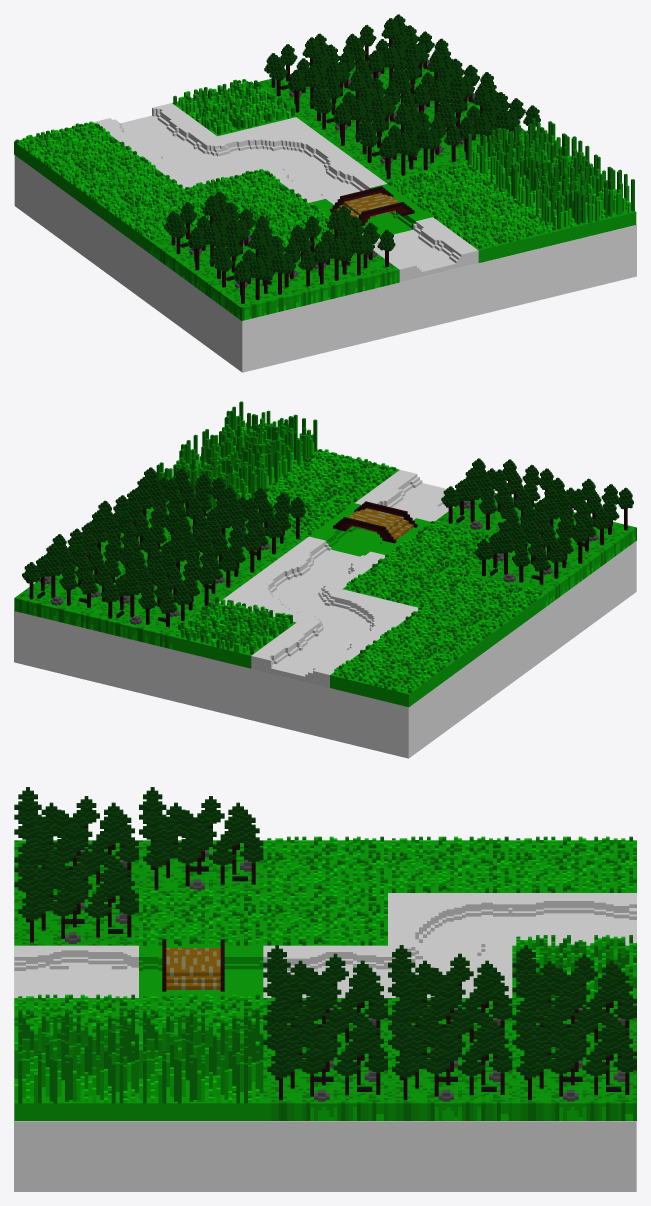
Rendered from GrassMap.fbx.
3 views of the same model, one above another, from view 1: azimuth 30°, elevation 25°; view 2: azimuth 150°, elevation 25°; view 3: azimuth 270°, elevation 25° (orthographic). The views are drawn at different scales.
Visible parts, largest first — view 1: Cube, Plaines Map-48, Plaines Map-3, Plaines Map-46, Plaines Map-20, Plaines Map-47, Plaines Map-2, Plaines Map-36, Plaines Map-21, Plaines Map-18, Plaines Map-41, Plaines Map-40 (+14 smaller); view 2: Cube, Plaines Map-18, Plaines Map-47, Plaines Map-16.001, Plaines Map-48, Plaines Map-40, Plaines Map-46, Plaines Map-22, Plaines Map-20, Plaines Map-21, Plaines Map-3, Plaines Map-41 (+14 smaller); view 3: Cube, Plaines Map-19, Plaines Map-16.001, Plaines Map-16, Plaines Map-3, Plaines Map-2, Plaines Map-46, Plaines Map-47, Plaines Map-34, Plaines Map-48, Plaines Map-18, Plaines Map-20 (+14 smaller).
Part boxes in pixels (<box>): Cube: <box>14,155,636,372</box>; Plaines Map-48: <box>196,224,320,320</box>; Plaines Map-3: <box>512,151,636,243</box>; Plaines Map-46: <box>283,205,399,301</box>; Plaines Map-20: <box>342,100,464,183</box>; Plaines Map-47: <box>150,191,269,287</box>; Plaines Map-2: <box>466,118,589,197</box>; Plaines Map-36: <box>433,197,557,262</box>; Plaines Map-21: <box>296,67,415,150</box>; Plaines Map-18: <box>253,33,369,116</box>; Plaines Map-41: <box>59,154,182,220</box>; Plaines Map-40: <box>14,121,136,187</box>; Cube: <box>14,541,636,758</box>; Plaines Map-18: <box>93,553,214,649</box>; Plaines Map-47: <box>468,511,591,606</box>; Plaines Map-16.001: <box>14,534,134,629</box>; Plaines Map-48: <box>520,477,636,573</box>; Plaines Map-40: <box>330,640,454,707</box>; Plaines Map-46: <box>434,458,553,536</box>; Plaines Map-22: <box>172,596,296,668</box>; Plaines Map-20: <box>192,486,308,569</box>; Plaines Map-21: <box>146,520,262,602</box>; Plaines Map-3: <box>201,401,318,482</box>; Plaines Map-41: <box>376,607,500,673</box>; Cube: <box>14,858,636,1191</box>; Plaines Map-19: <box>263,997,387,1120</box>; Plaines Map-16.001: <box>512,997,636,1120</box>; Plaines Map-16: <box>388,997,512,1120</box>; Plaines Map-3: <box>14,1008,138,1120</box>; Plaines Map-2: <box>139,1008,263,1120</box>; Plaines Map-46: <box>14,839,138,945</box>; Plaines Map-47: <box>139,787,263,892</box>; Plaines Map-34: <box>388,893,512,955</box>; Plaines Map-48: <box>14,787,138,892</box>; Plaines Map-18: <box>512,945,636,1050</box>; Plaines Map-20: <box>263,945,387,1050</box>.
Size of the model in its own units: 1602 by 410 by 1601.
